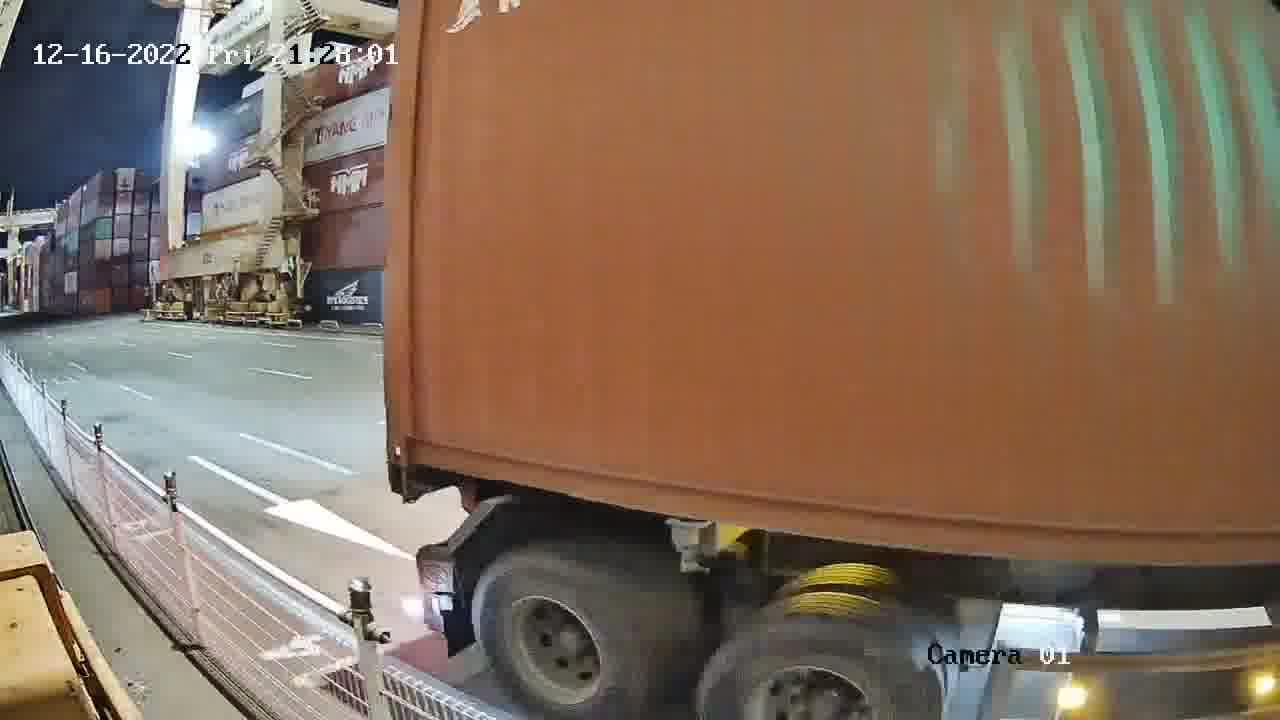Hole_L: (386, 406, 443, 467)
Tire: (479, 559, 645, 716), (701, 613, 943, 719)
